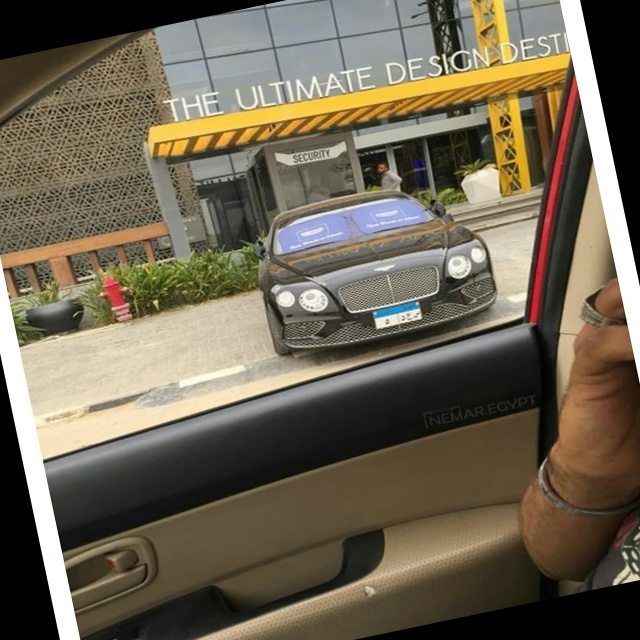License Plate: (371, 299, 425, 331)
